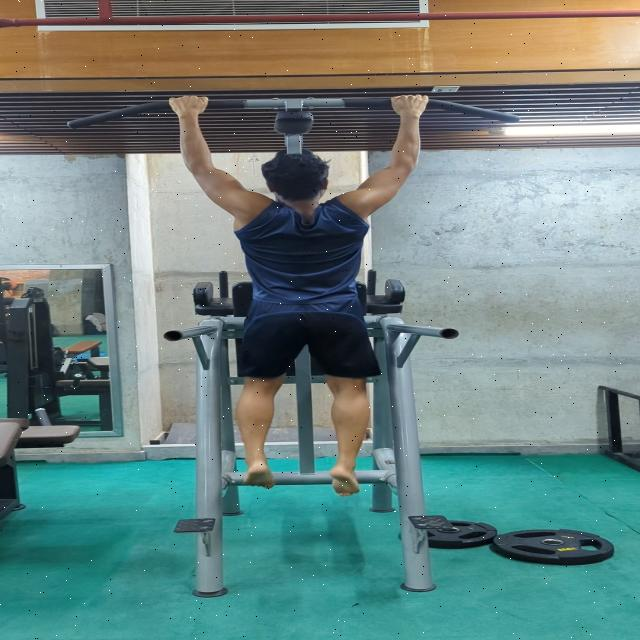Normal_PullUps: (160, 87, 454, 505)
